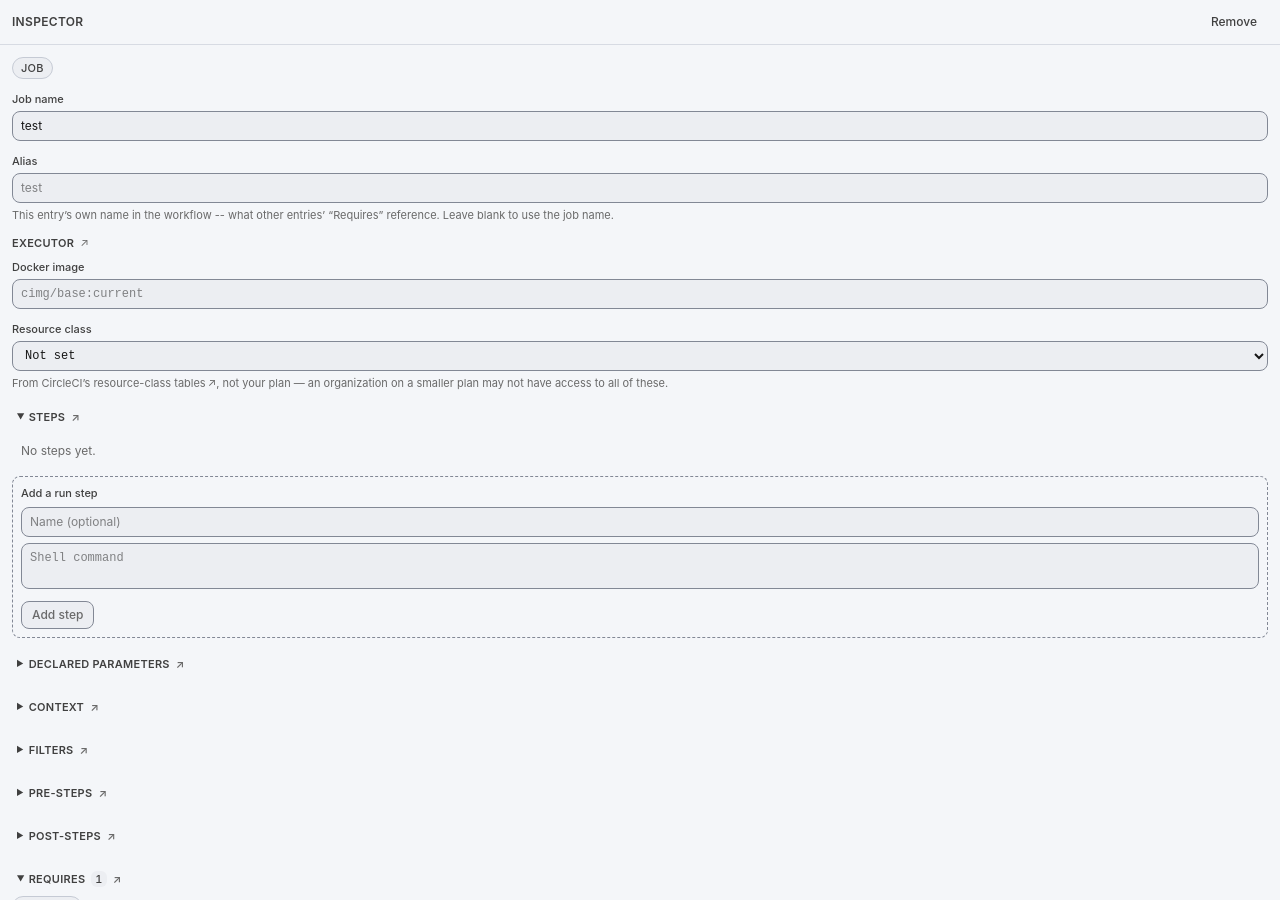
Test: Inspector -- rename reference prompt (#12) › cancelling leaves the document and the field alone
This screenshot has width=1280, height=900.
Replace the text in the field labelled "Job name" with "unit": point(640, 126) [12, 111, 1268, 141]
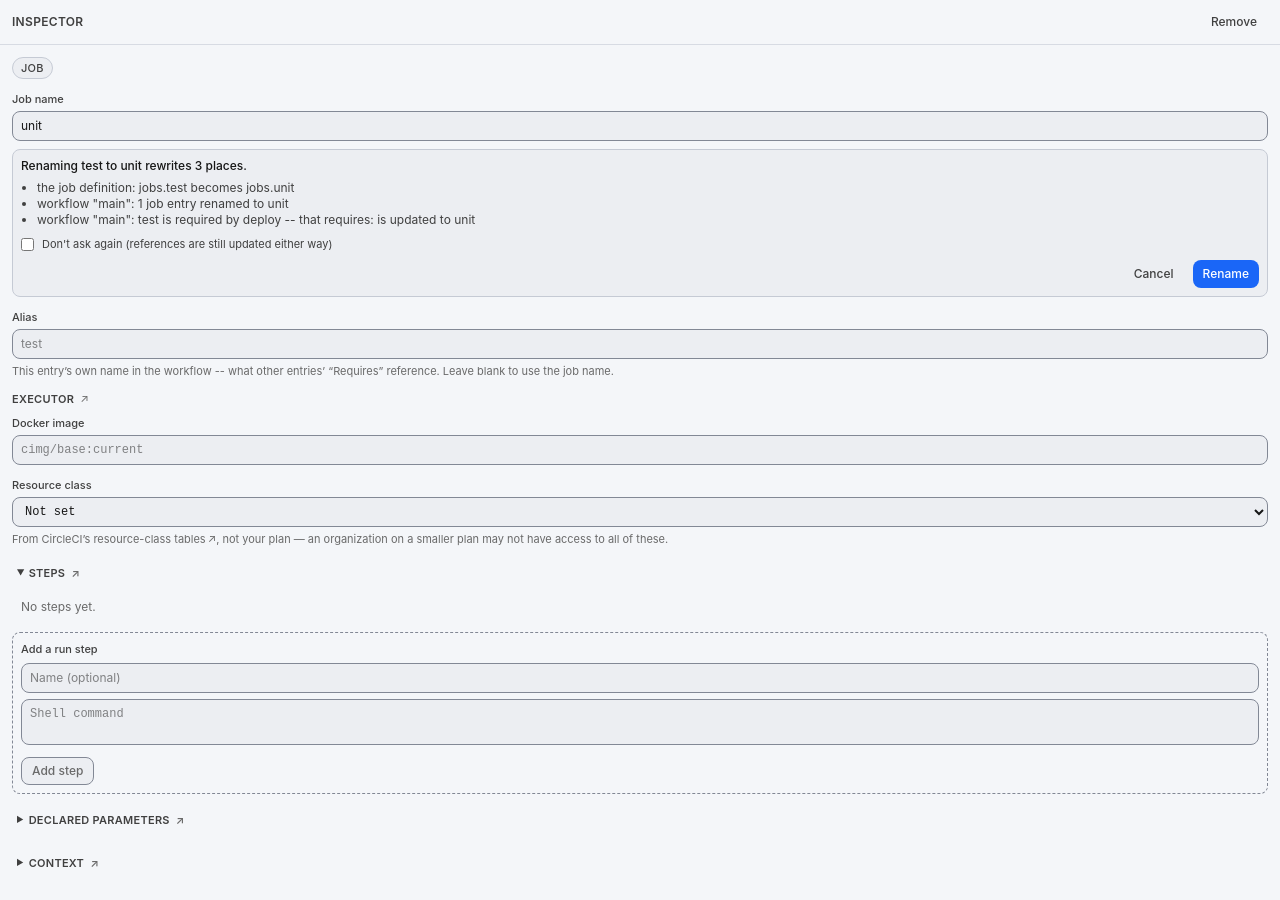
Click the button "Cancel": point(1154, 274) [1123, 260, 1185, 288]
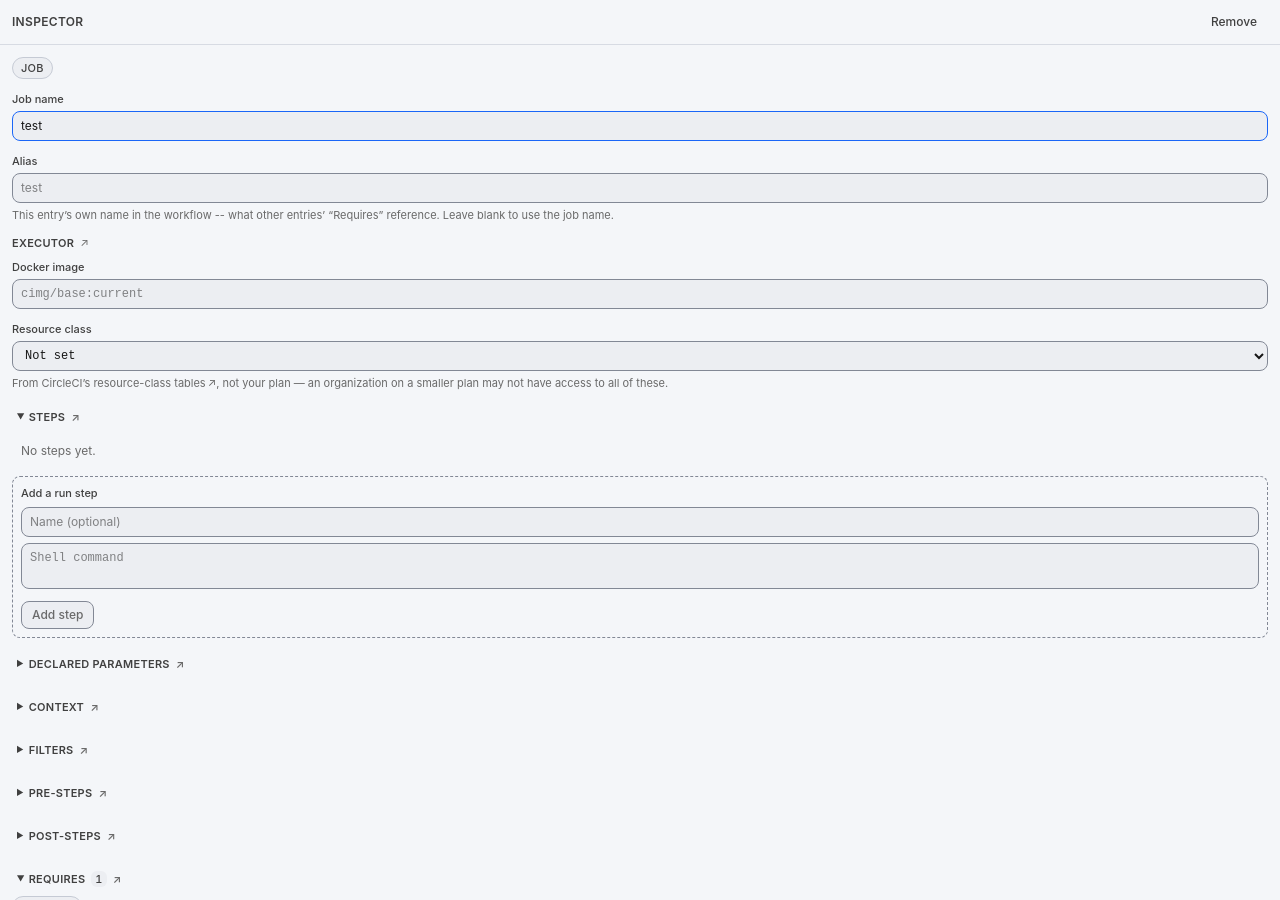
Expected: the field labelled "Job name" holds "test", [12, 111, 1268, 141]
Expected: the dialog is gone
